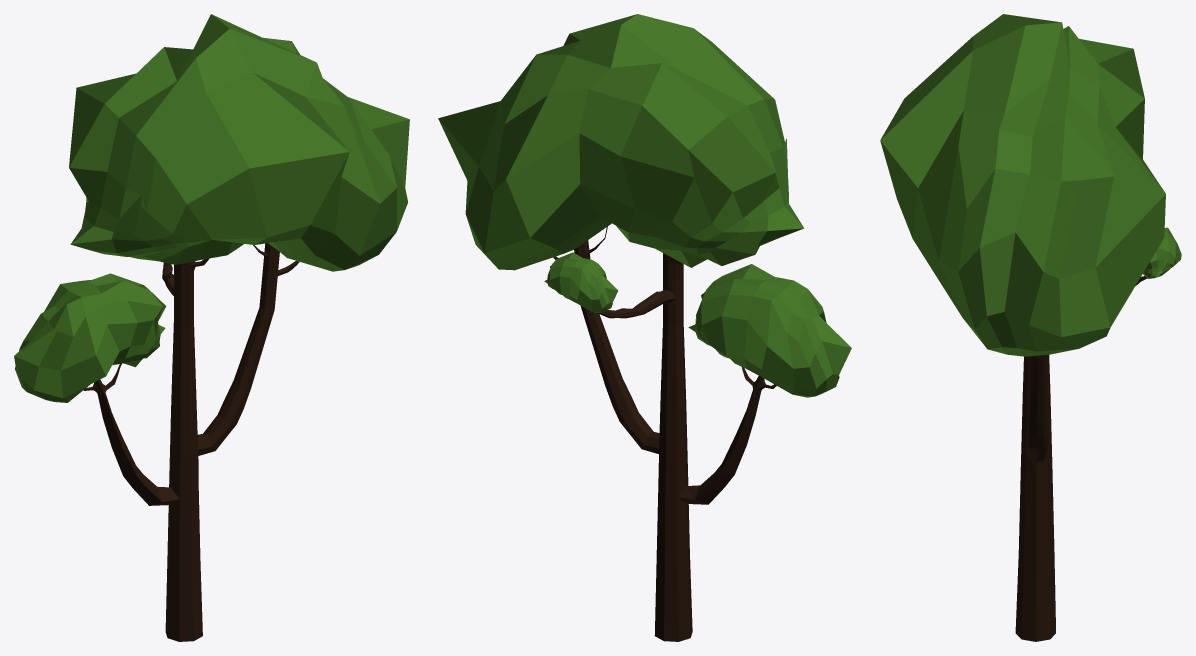
File: arbol (1).fbx
3 views of the same model, side by side, from view 1: azimuth 30°, elevation 25°; view 2: azimuth 150°, elevation 25°; view 3: azimuth 270°, elevation 25° (orthographic). The views are drawn at different scales.
Visible parts, largest first — view 1: Palmera; view 2: Palmera; view 3: Palmera.
Boxes of the visible parts, box(x1,y1,x2,y2) form: Palmera: box(14, 14, 409, 641); Palmera: box(438, 14, 851, 641); Palmera: box(880, 14, 1181, 641).
Size of the model in its own units: 574 by 820 by 355.
